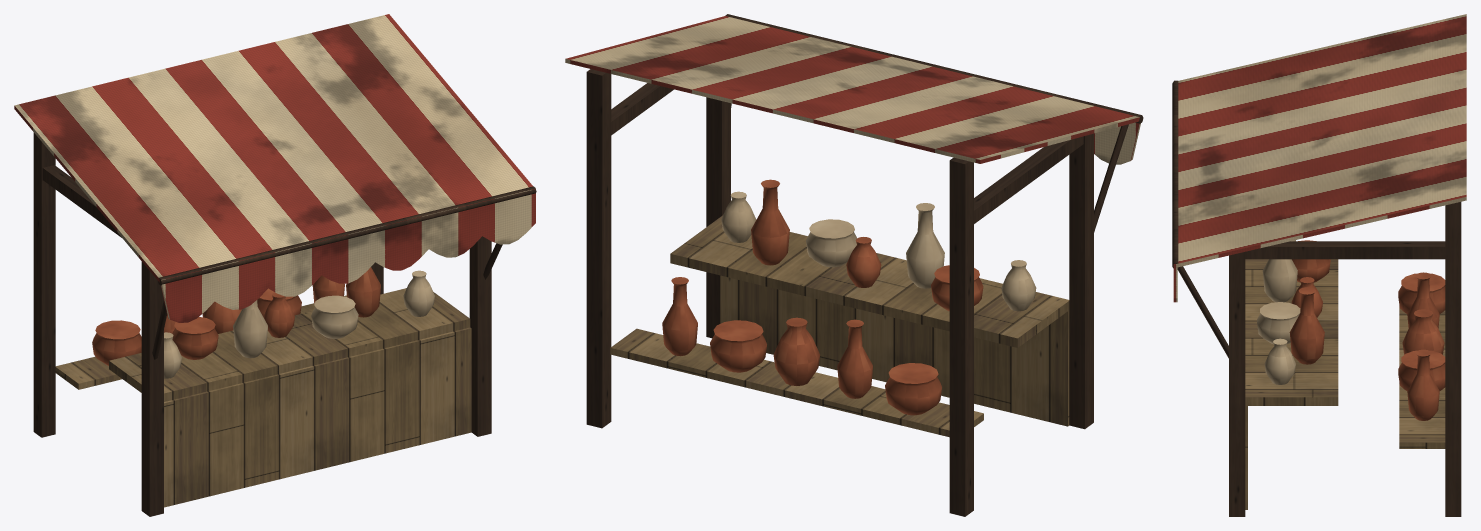
The model's file is market_stall_pottery.gltf.
3 renders of one model, left to right at view 1: azimuth 30°, elevation 25°; view 2: azimuth 150°, elevation 25°; view 3: azimuth 270°, elevation 25°, orthographic. The views are drawn at different scales.
Visible parts, largest first — view 1: INT_stall_pottery; view 2: INT_stall_pottery; view 3: INT_stall_pottery.
Boxes of the visible parts, x1,y1,x2,y2 form: INT_stall_pottery: (14, 14, 536, 516); INT_stall_pottery: (565, 14, 1143, 516); INT_stall_pottery: (1172, 14, 1466, 516).
Size of what is drawn, in the model's own units: 3.2 by 2.68 by 2.18.
5 materials, 5 textured.
